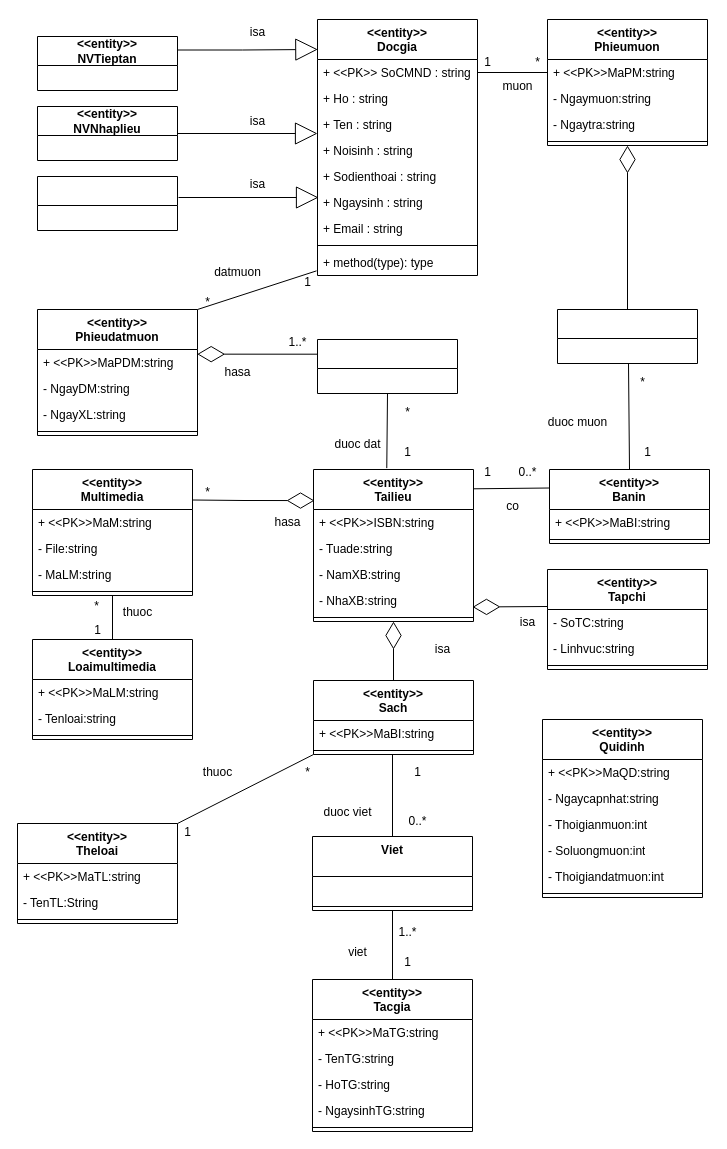
This 727x1149 diagram has some shape labels left out. The shapes that lost their labels are listed below. From the top down, each one's centre as x and y in pixels, then its label:
At point 107,203: "<<entity>> NVThuthu".
At point 627,336: "<<entity>> CTPhieumuon".
At point 387,366: "<<entity>> CTPhieudatmuon".
